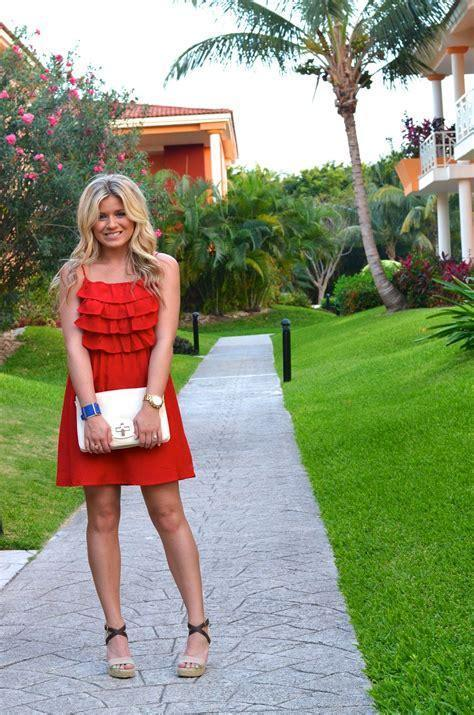dress: (57, 258, 192, 486)
